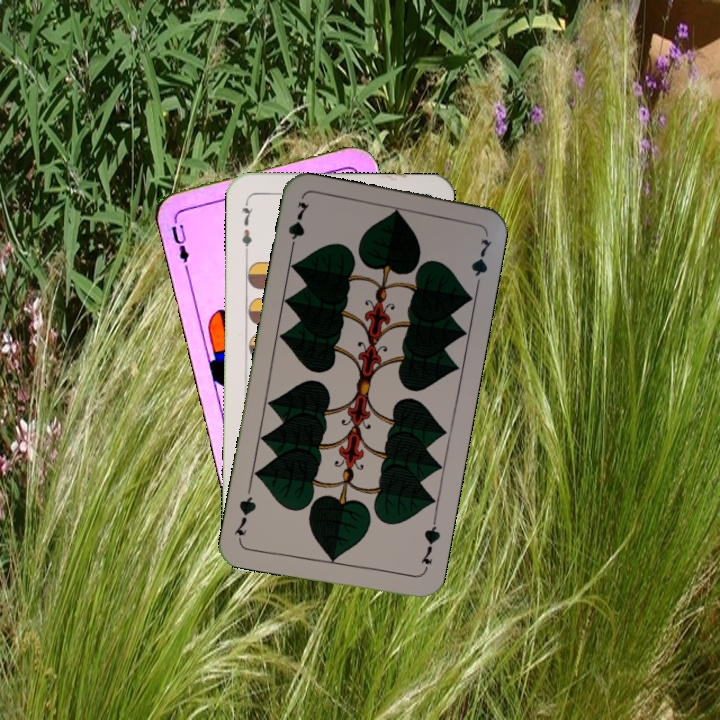E7: (238, 197, 256, 256)
EU: (167, 213, 192, 272)
G7: (284, 198, 312, 256), (416, 516, 443, 575)
